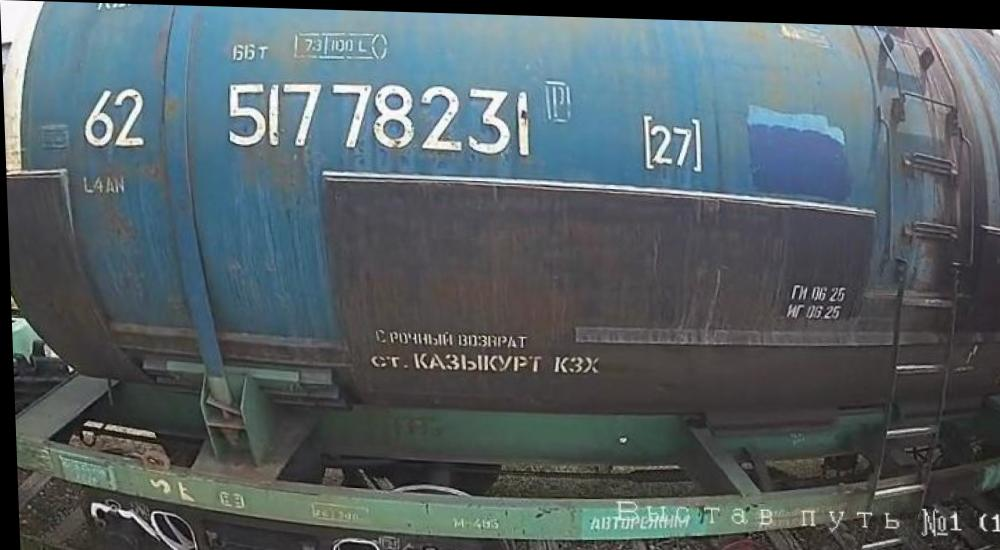Wagon-number: (221, 71, 537, 160)
